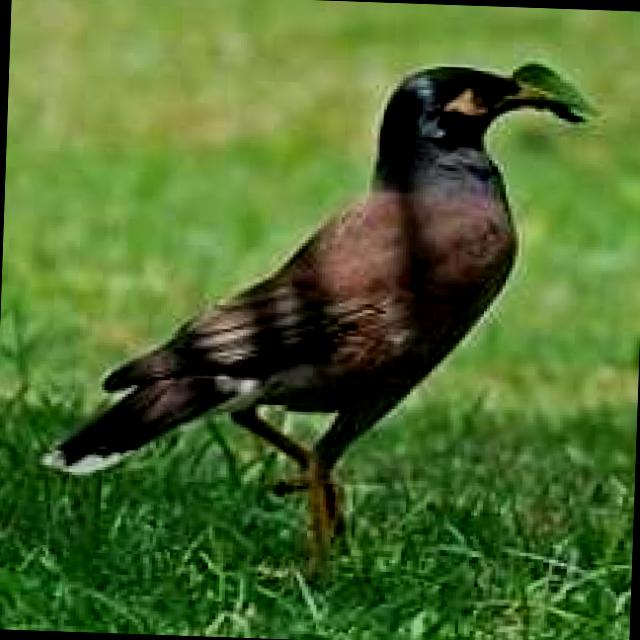bird: (32, 47, 558, 563)
